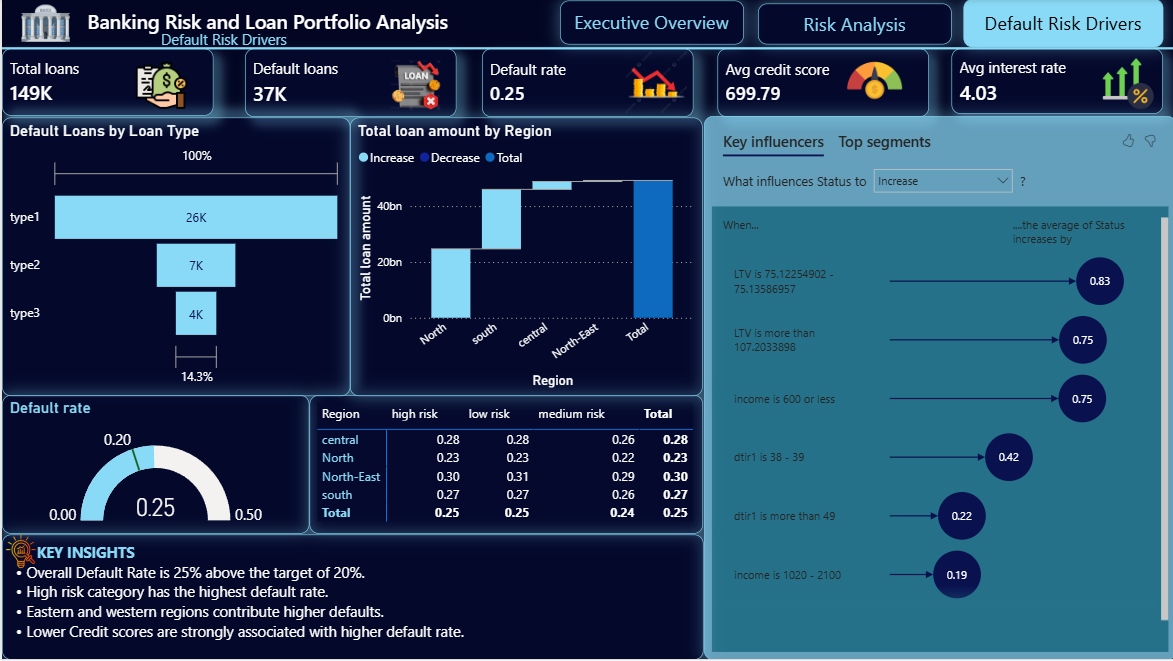

The dashboard page shown, as its layout file describes it:
{"tool":"powerbi","page":{"name":"Default Risk Drivers","canvas":[1280,720],"ordinal":2},"visuals":[{"type":"cardVisual","fields":{"Data":["Calculations (2).Avg credit score"]},"box":[781,54.1,230.6,74.8],"z":0},{"type":"cardVisual","fields":{"Data":["Calculations (2).Default loans"]},"box":[265.6,54.1,230.6,74.8],"z":1000},{"type":"funnel","title":"Default Loans by Loan Type","fields":{"Category":["Loan_Default.loan_type","Loan_Default.age","Loan_Default.Risk_category","Loan_Default.Region","Loan_Default.loan_purpose"],"Y":["Calculations (2).Default loans"]},"box":[0,128.8,380.2,303.8],"z":2000},{"type":"keyDriversVisual","fields":{"ExplainBy":["Loan_Default.Credit_Score","Loan_Default.income","Loan_Default.LTV","Loan_Default.dtir1","Loan_Default.age","Loan_Default.loan_purpose"],"Target":["Loan_Default.Status"]},"box":[765.1,127.2,515.4,593.3],"z":3000},{"type":"gauge","fields":{"Y":["Calculations (2).Default rate"]},"box":[0,432.6,335.6,151.1],"z":4000},{"type":"cardVisual","fields":{"Data":["Calculations (2).Avg interest rate"]},"box":[1035.5,54.1,230.6,71.6],"z":5000},{"type":"cardVisual","fields":{"Data":["Calculations (2).Total loans"]},"box":[0,54.1,230.6,73.2],"z":6000},{"type":"cardVisual","fields":{"Data":["Calculations (2).Default rate"]},"box":[523.3,54.1,230.6,74.8],"z":7000},{"type":"pivotTable","fields":{"Columns":["Loan_Default.Risk_category"],"Rows":["Loan_Default.Region"],"Values":["Calculations (2).Default rate"]},"box":[335.6,432.6,429.5,151.1],"z":8000},{"type":"waterfallChart","fields":{"Category":["Loan_Default.Region"],"Y":["Calculations (2).Total loan amount"]},"box":[380.2,128.8,384.9,303.8],"z":9000},{"type":"textbox","box":[0,583.8,765.1,136.8],"z":10000},{"type":"shape","box":[0,47.7,1280.4,12.7],"z":11000},{"type":"cardVisual","fields":{"Data":["Calculations (2).Title_2"]},"box":[89.1,1.6,450.1,42.9],"z":12000},{"type":"textbox","box":[168.6,28.6,189.3,36.6],"z":13000},{"type":"shape","box":[609.2,1.6,200.4,47.7],"z":14000},{"type":"shape","box":[823.9,4.8,211.6,44.5],"z":15000},{"type":"shape","box":[1048.2,0,217.9,52.5],"z":16000},{"type":"image","box":[0,583.8,41.4,36.6],"z":17000},{"type":"image","box":[116.1,60.4,114.5,65.2],"z":18000},{"type":"image","box":[410.4,66.8,81.1,54.1],"z":19000},{"type":"image","box":[645.8,52.5,135.2,76.3],"z":20000},{"type":"image","box":[879.6,57.3,143.2,62],"z":21000},{"type":"image","box":[1191.4,63.6,74.8,57.3],"z":22000},{"type":"image","box":[20.7,0,52.5,52.5],"z":23000}]}

Visuals, with their boxes in screenshot pixels (x1, y1, x2, y2), scaled from the page's 1280x720 canvas onto the 1173x661 screenshot:
cardVisual - Calculations (2).Avg credit score: [x1=716, y1=50, x2=927, y2=118]
cardVisual - Calculations (2).Default loans: [x1=243, y1=50, x2=455, y2=118]
"Default Loans by Loan Type" funnel: [x1=0, y1=118, x2=348, y2=397]
keyDriversVisual - Loan_Default.Credit_Score x Loan_Default.income: [x1=701, y1=117, x2=1172, y2=660]
gauge - Calculations (2).Default rate: [x1=0, y1=397, x2=308, y2=536]
cardVisual - Calculations (2).Avg interest rate: [x1=949, y1=50, x2=1160, y2=115]
cardVisual - Calculations (2).Total loans: [x1=0, y1=50, x2=211, y2=117]
cardVisual - Calculations (2).Default rate: [x1=480, y1=50, x2=691, y2=118]
pivotTable - Loan_Default.Risk_category x Loan_Default.Region: [x1=308, y1=397, x2=701, y2=536]
waterfallChart - Loan_Default.Region x Calculations (2).Total loan amount: [x1=348, y1=118, x2=701, y2=397]
textbox: [x1=0, y1=536, x2=701, y2=660]
shape: [x1=0, y1=44, x2=1172, y2=55]
cardVisual - Calculations (2).Title_2: [x1=82, y1=1, x2=494, y2=41]
textbox: [x1=155, y1=26, x2=328, y2=60]
shape: [x1=558, y1=1, x2=742, y2=45]
shape: [x1=755, y1=4, x2=949, y2=45]
shape: [x1=961, y1=0, x2=1160, y2=48]
image: [x1=0, y1=536, x2=38, y2=570]
image: [x1=106, y1=55, x2=211, y2=115]
image: [x1=376, y1=61, x2=450, y2=111]
image: [x1=592, y1=48, x2=716, y2=118]
image: [x1=806, y1=53, x2=937, y2=110]
image: [x1=1092, y1=58, x2=1160, y2=111]
image: [x1=19, y1=0, x2=67, y2=48]
